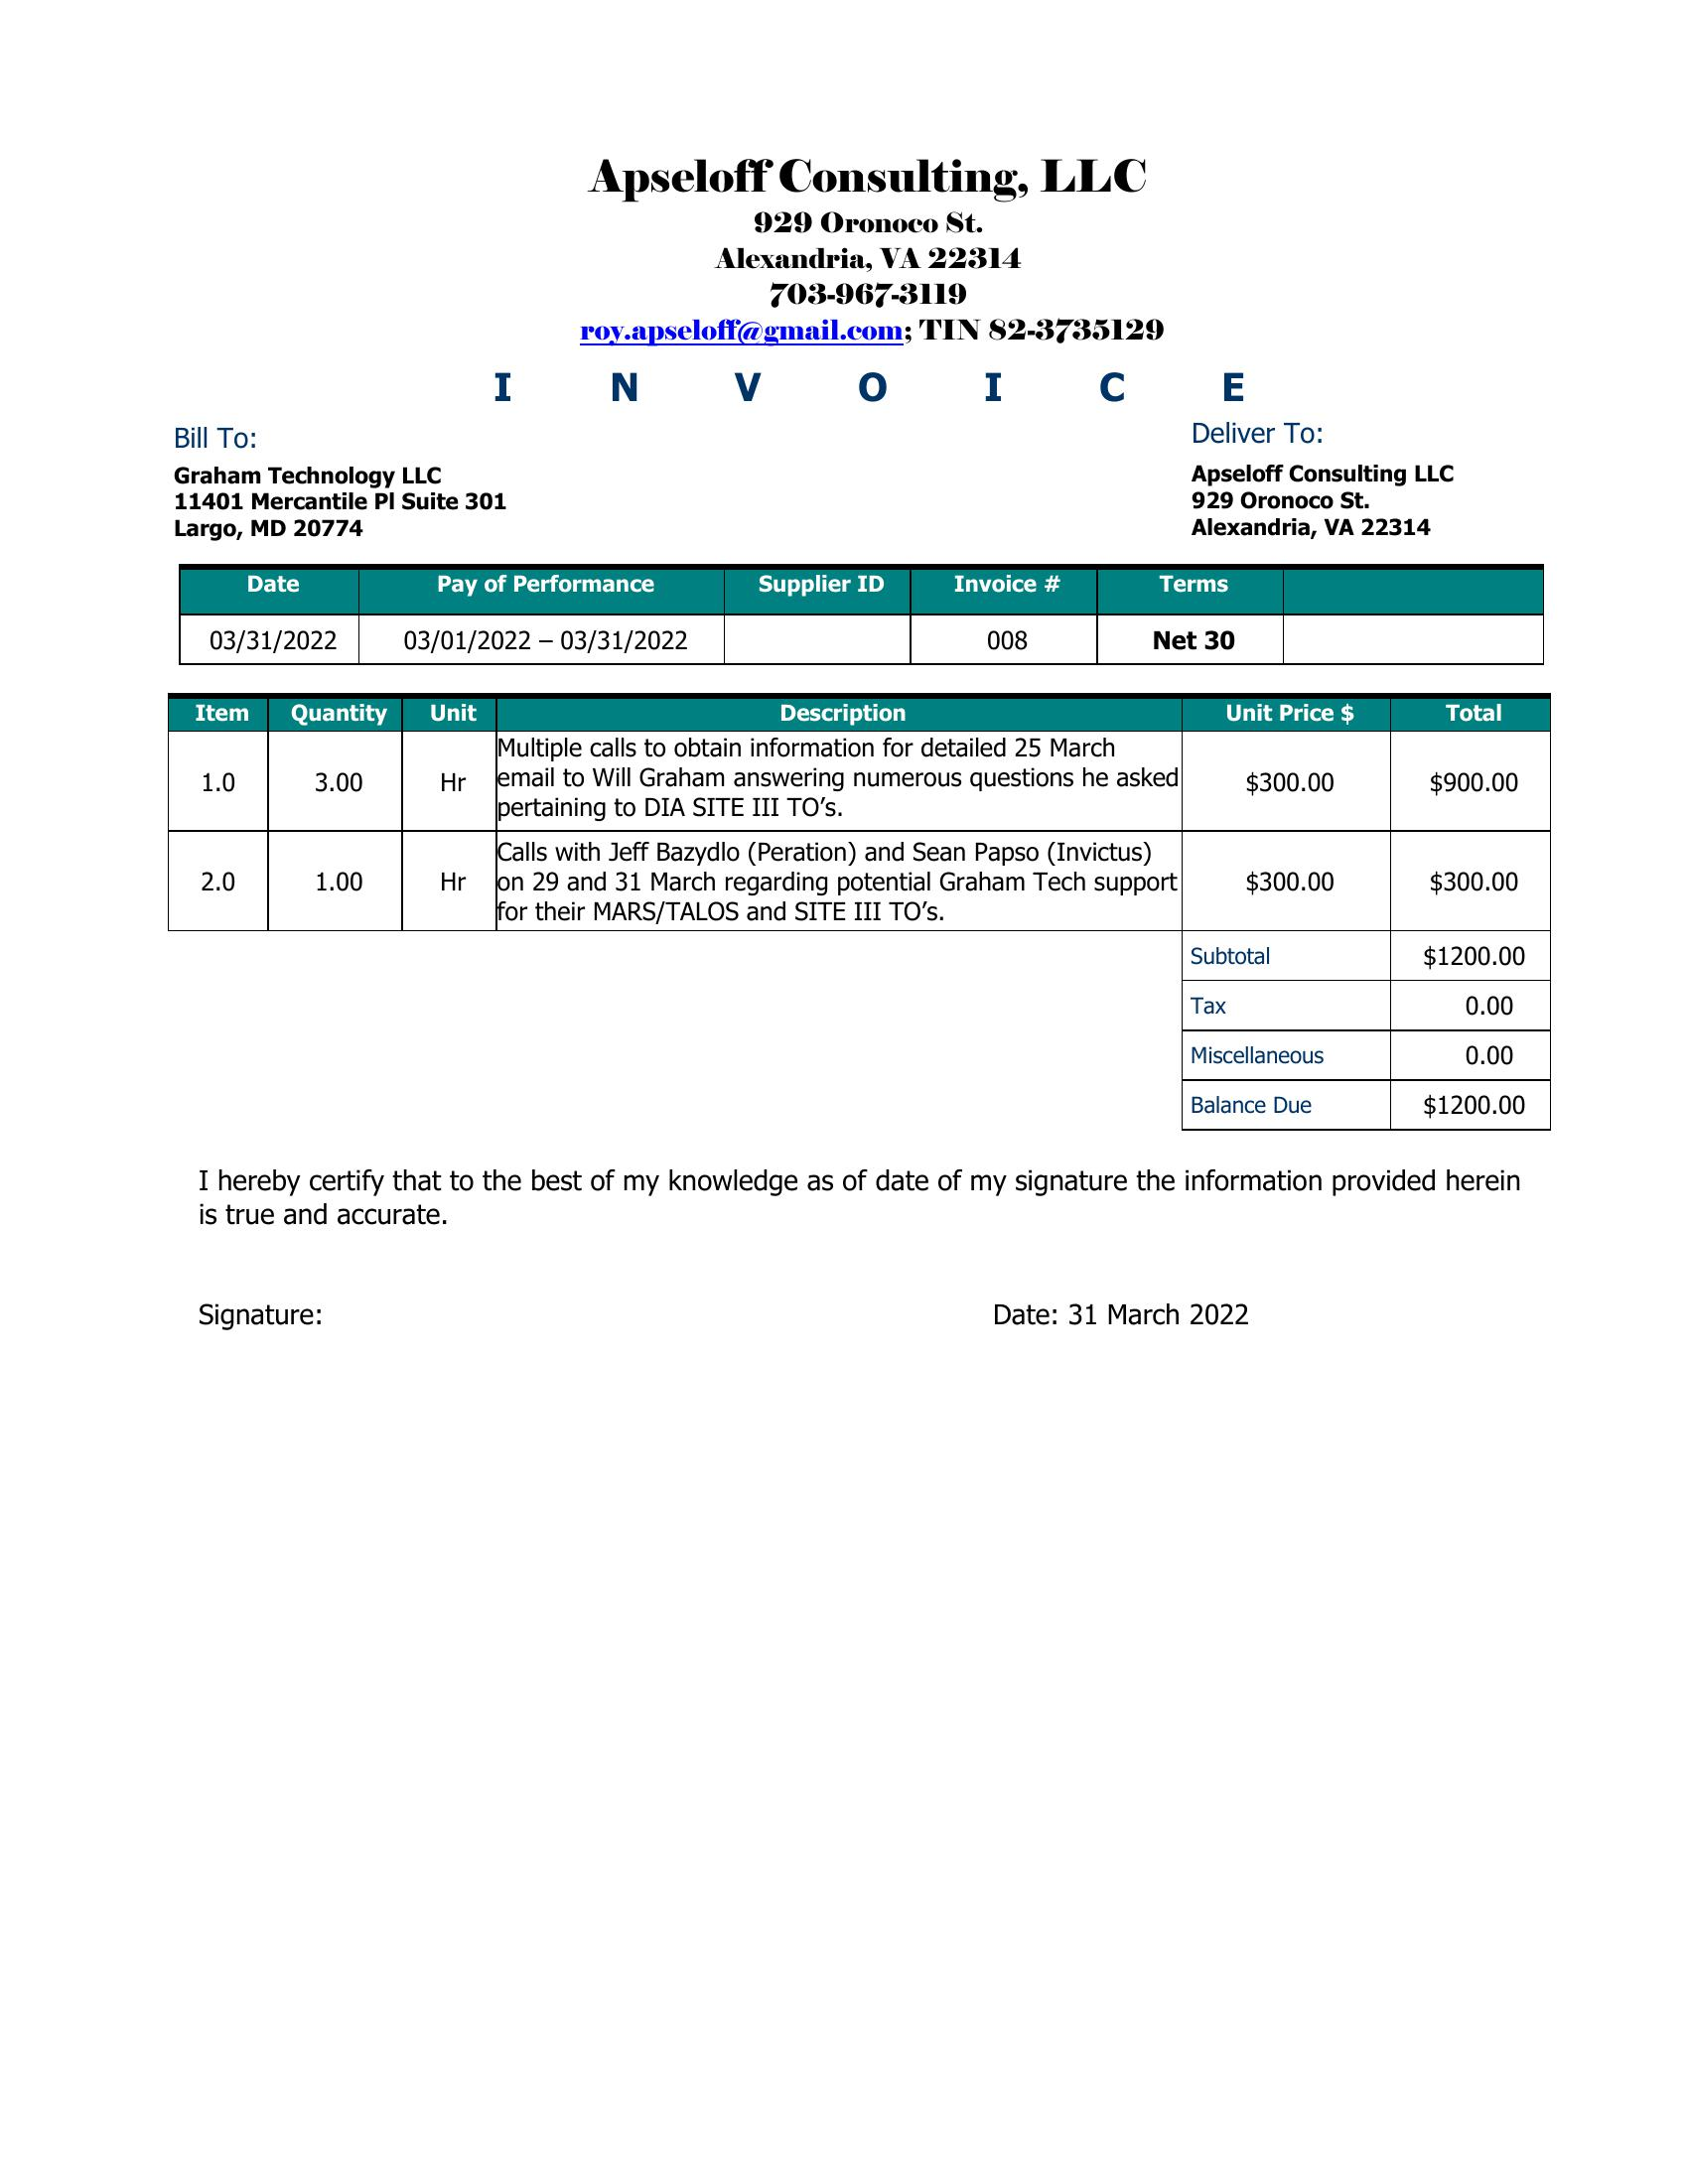table: (163, 693, 1562, 940), (174, 557, 1569, 674)
